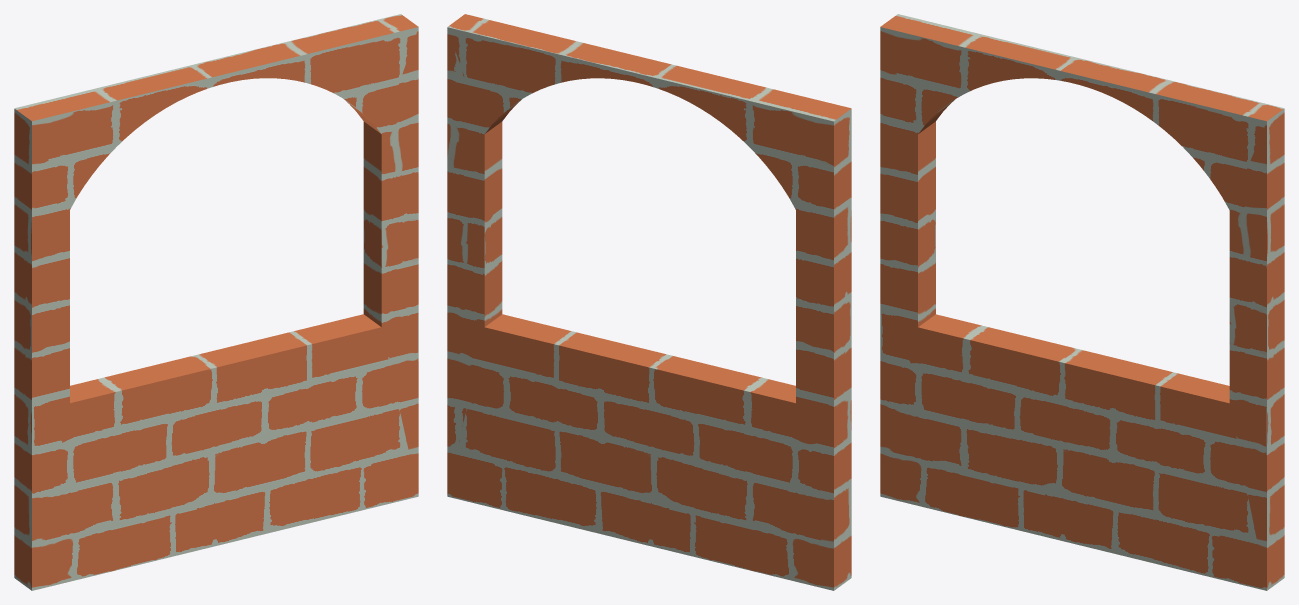
The model's file is Brick_Wall_Win_Mosaico.fbx.
3 views of the same model, side by side, from view 1: azimuth 30°, elevation 25°; view 2: azimuth 150°, elevation 25°; view 3: azimuth 330°, elevation 25° (orthographic).
Visible parts, largest first — view 1: Brick_Wall_Win_Mosaico; view 2: Brick_Wall_Win_Mosaico; view 3: Brick_Wall_Win_Mosaico.
Boxes of the visible parts, x1,y1,x2,y2 form: Brick_Wall_Win_Mosaico: (14, 14, 418, 590); Brick_Wall_Win_Mosaico: (447, 14, 851, 590); Brick_Wall_Win_Mosaico: (880, 14, 1284, 590).
Bounding box in the file's own units: 250 × 290 × 20.
